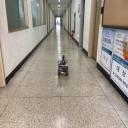cart: (57, 60, 69, 76)
